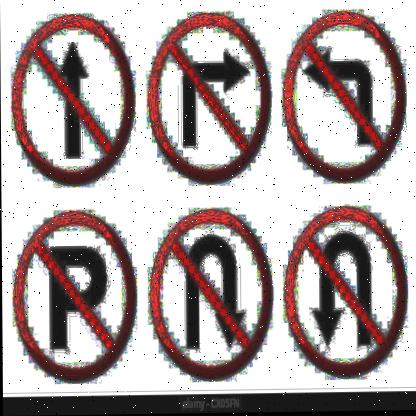No left turn: (283, 11, 404, 179)
